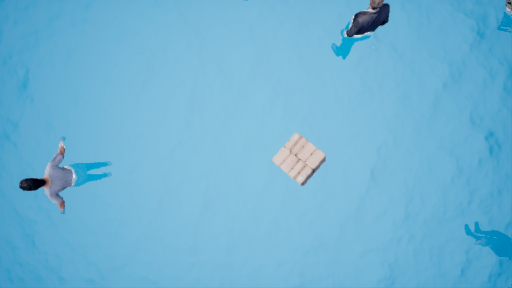person: (6, 143, 123, 208), (338, 3, 395, 65)
